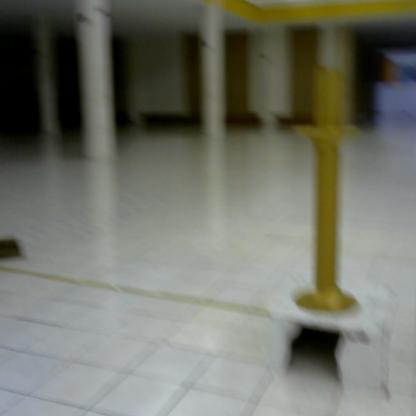pole: (292, 61, 365, 322)
